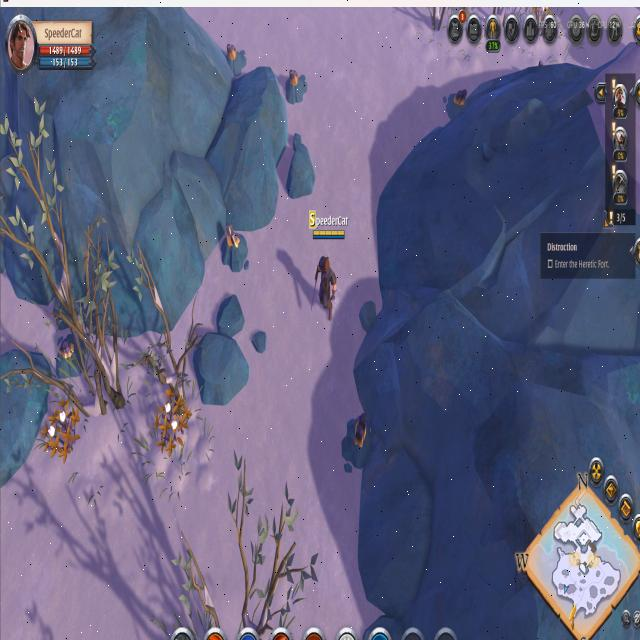copper: (343, 411, 373, 472), (218, 222, 249, 276), (54, 334, 83, 377), (285, 67, 308, 109), (446, 86, 469, 121), (224, 42, 246, 78)
cotton: (152, 385, 191, 459), (42, 399, 78, 464)
